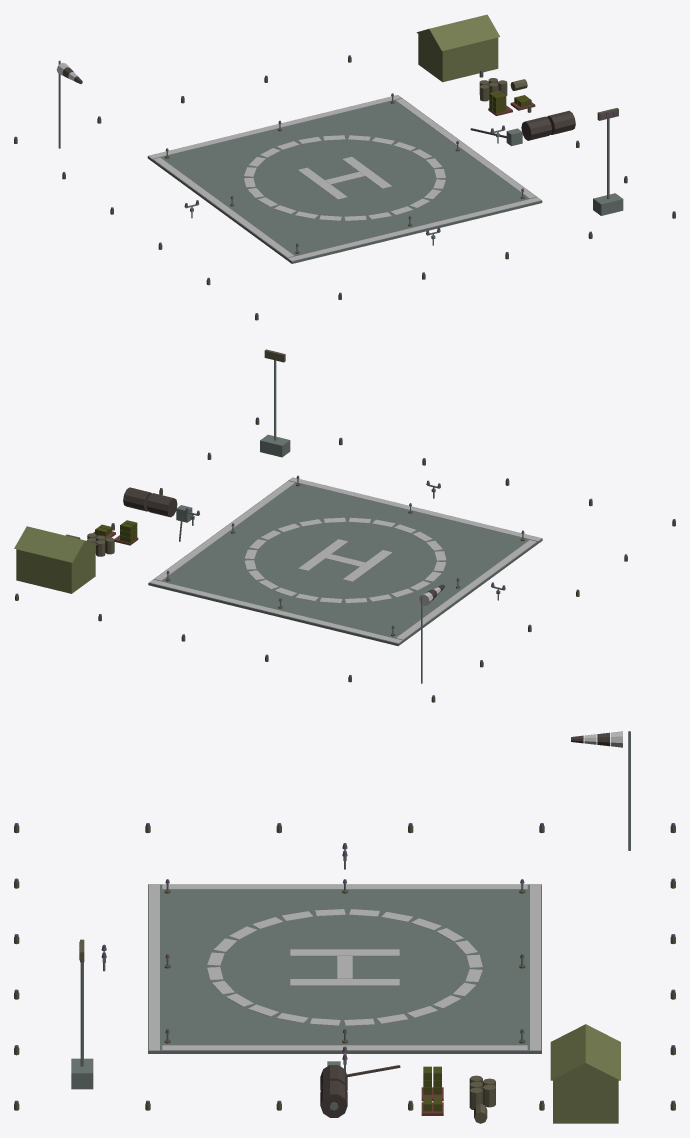
The model's file is SM_Helipuerto_v4_LOD0.fbx.
The picture shows the model from 3 angles, top to bottom: view 1: azimuth 30°, elevation 25°; view 2: azimuth 150°, elevation 25°; view 3: azimuth 270°, elevation 25°; orthographic projection. The views are drawn at different scales.
Visible parts, largest first — view 1: SM_bloques.helipuerto_v4_LOD0, Luces; view 2: SM_bloques.helipuerto_v4_LOD0; view 3: SM_bloques.helipuerto_v4_LOD0, Luces.
Part boxes in pixels (x1,y1,x2,y2): SM_bloques.helipuerto_v4_LOD0: (14, 14, 675, 320); Luces: (14, 55, 675, 315); SM_bloques.helipuerto_v4_LOD0: (14, 349, 675, 702); SM_bloques.helipuerto_v4_LOD0: (14, 731, 675, 1123); Luces: (14, 823, 675, 1104).
Bounding box in the file's own units: 31.72 × 6.85 × 30.24.
